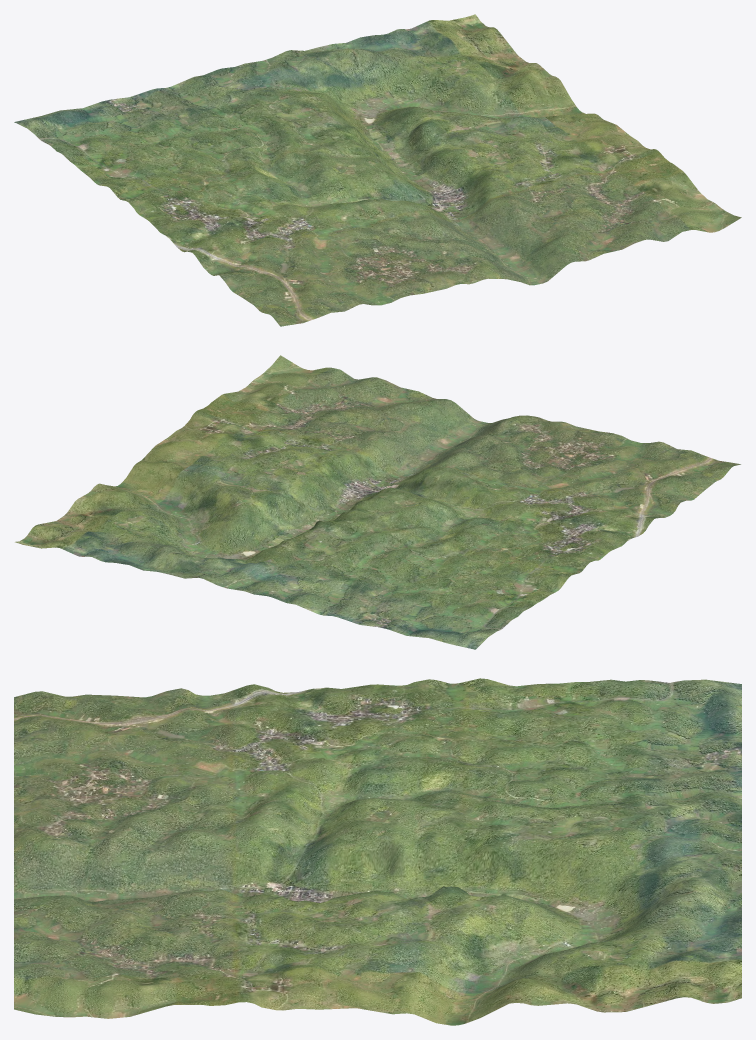
Rendered from wotawati.glb.
3 renders of one model, top to bottom at view 1: azimuth 30°, elevation 25°; view 2: azimuth 150°, elevation 25°; view 3: azimuth 270°, elevation 25°, orthographic. The views are drawn at different scales.
Parts seen in each view (by area): view 1: Pulau Jawa_1; view 2: Pulau Jawa_1; view 3: Pulau Jawa_1.
Boxes of the visible parts, box(x1,y1,x2,y2) form: Pulau Jawa_1: box(14, 14, 741, 326); Pulau Jawa_1: box(15, 355, 740, 649); Pulau Jawa_1: box(14, 678, 741, 1025).
Size of the model in its own units: 2.56 by 0.1953 by 2.56.
1 material, 1 textured.
